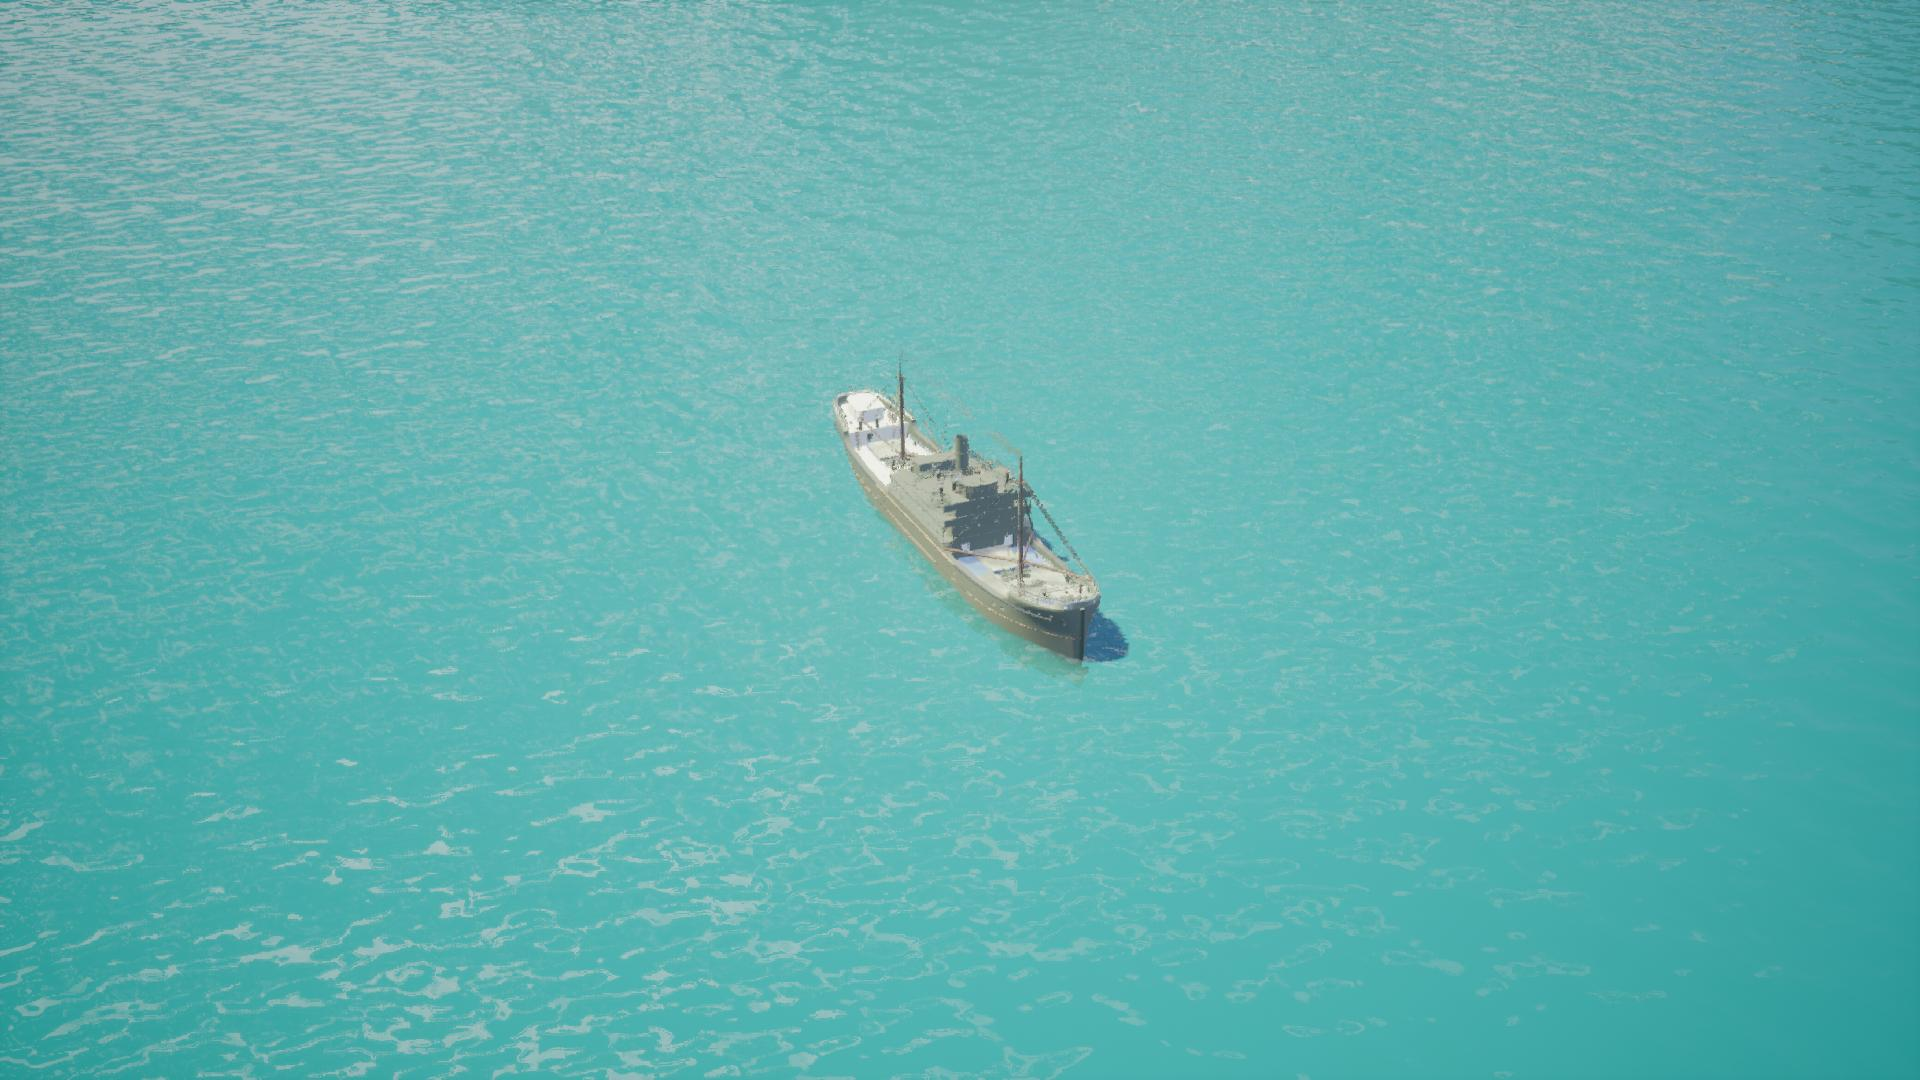Fishing Boat: (814, 334, 1151, 690)
